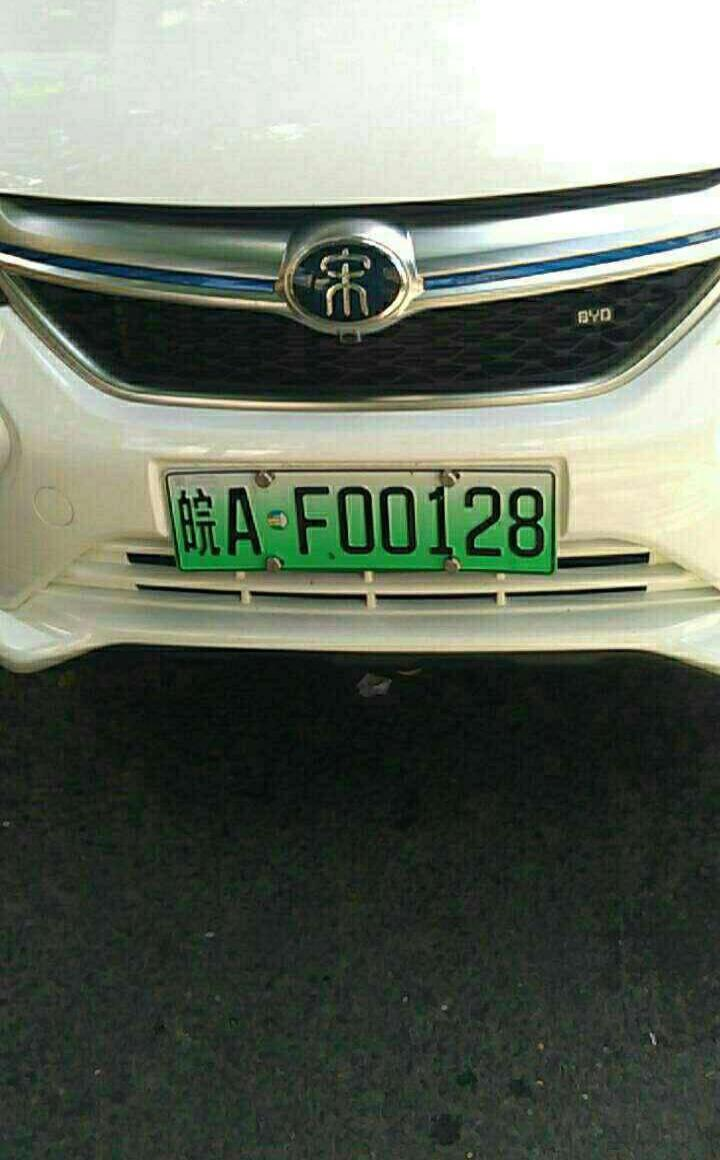car: (158, 469, 557, 590)
